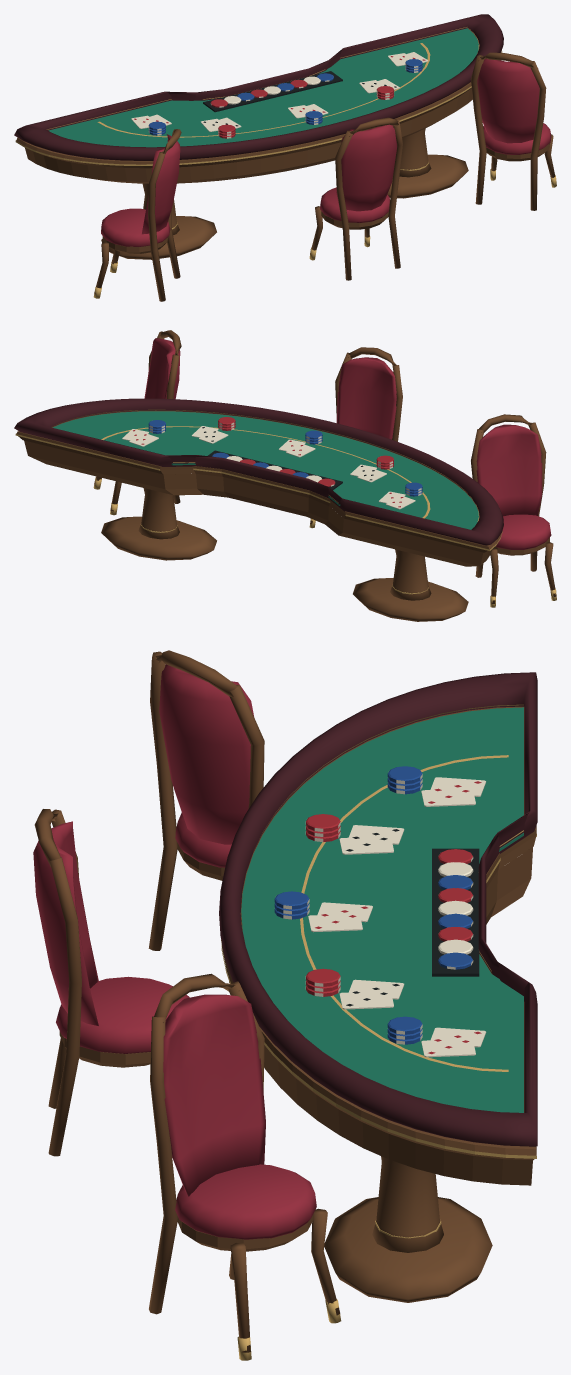
The model's file is salon_card_table.glb.
3 views of the same model, one above another, from view 1: azimuth 30°, elevation 25°; view 2: azimuth 150°, elevation 25°; view 3: azimuth 270°, elevation 25° (orthographic). The views are drawn at different scales.
Parts seen in each view (by area): view 1: Palette, Walnut, Felt; view 2: Palette, Walnut, Felt; view 3: Palette, Felt, Walnut.
Boxes of the visible parts, x1,y1,x2,y2 form: Palette: [14, 14, 556, 298]; Walnut: [16, 28, 555, 301]; Felt: [48, 28, 478, 147]; Palette: [14, 338, 556, 607]; Walnut: [16, 330, 556, 621]; Felt: [53, 411, 478, 529]; Palette: [33, 664, 537, 1360]; Felt: [241, 707, 523, 1112]; Walnut: [34, 650, 536, 1352].
Bounding box in the file's own units: 4.17 × 1.33 × 1.91.
